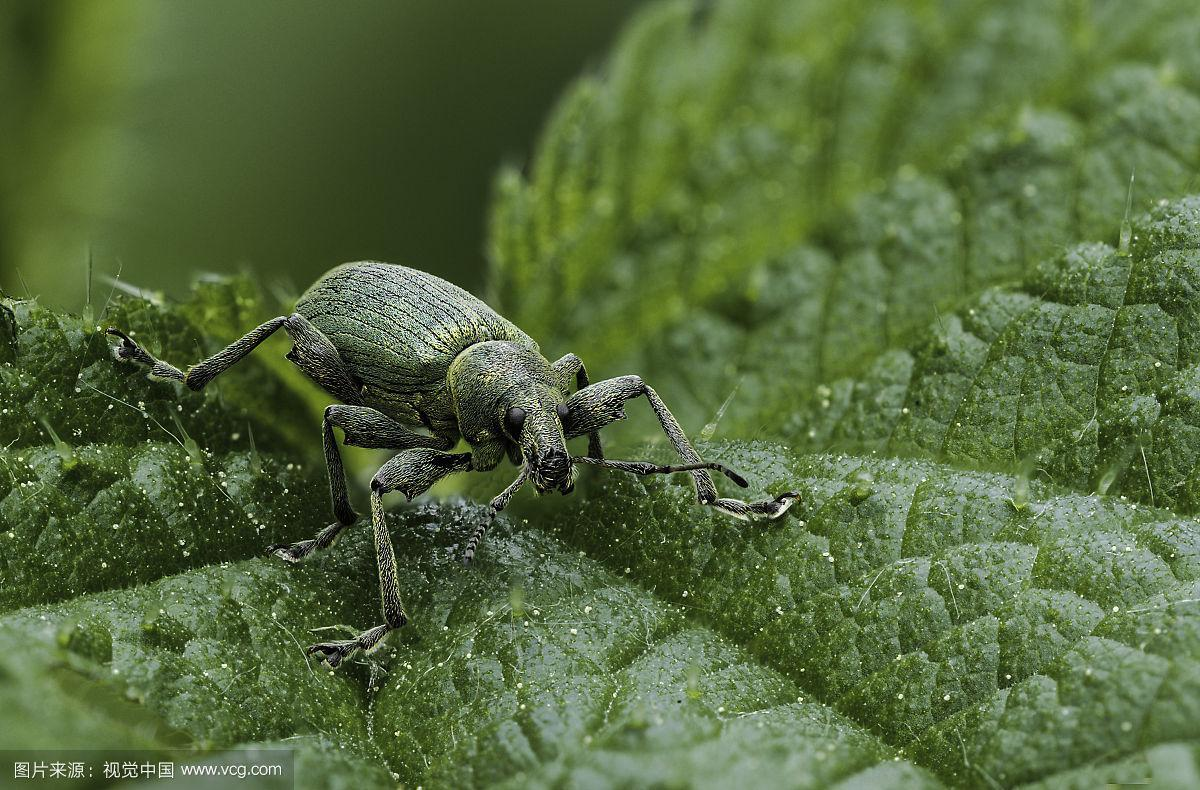Curculionidae: (107, 259, 801, 672)
